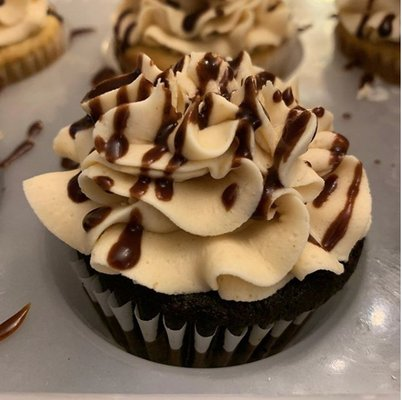burger: (0, 303, 30, 343)
